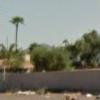Tree: (35, 31, 100, 66)
